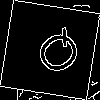Q: (24, 24, 87, 85)
